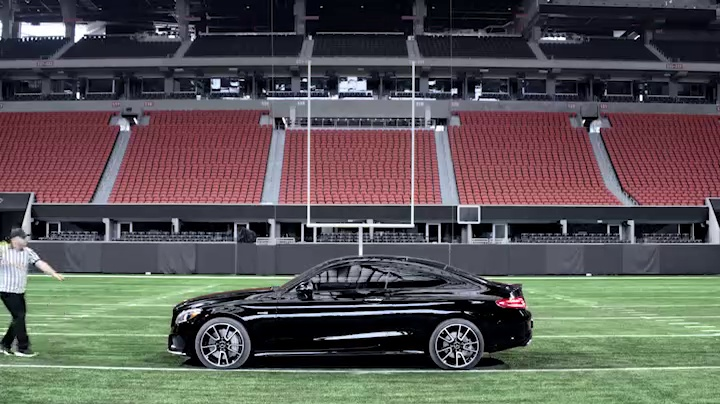amg: (170, 257, 539, 369)
